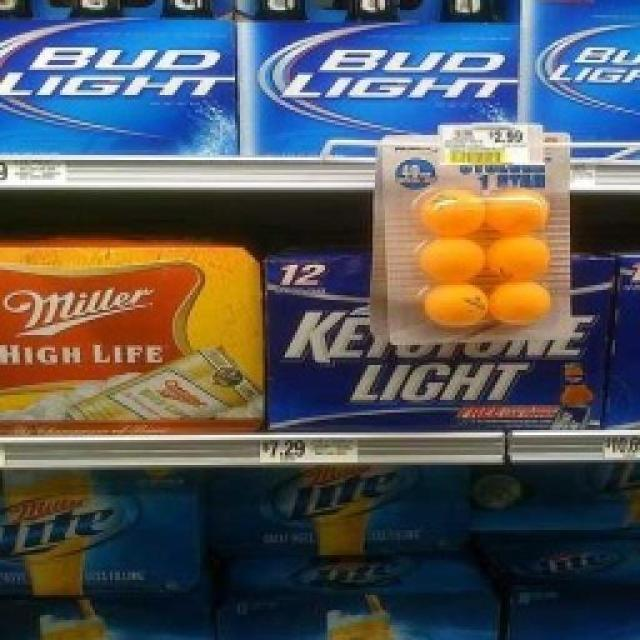oball: (418, 186, 483, 237), (418, 234, 482, 282), (484, 234, 550, 280), (421, 284, 489, 328), (486, 280, 552, 325), (483, 189, 549, 233)
